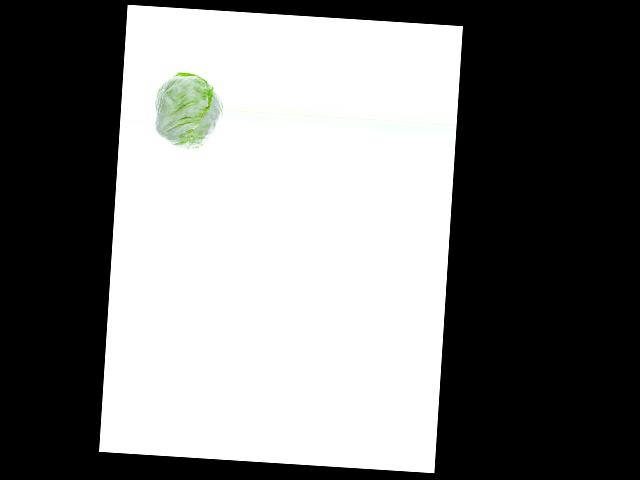lettuce: (156, 72, 223, 150)
